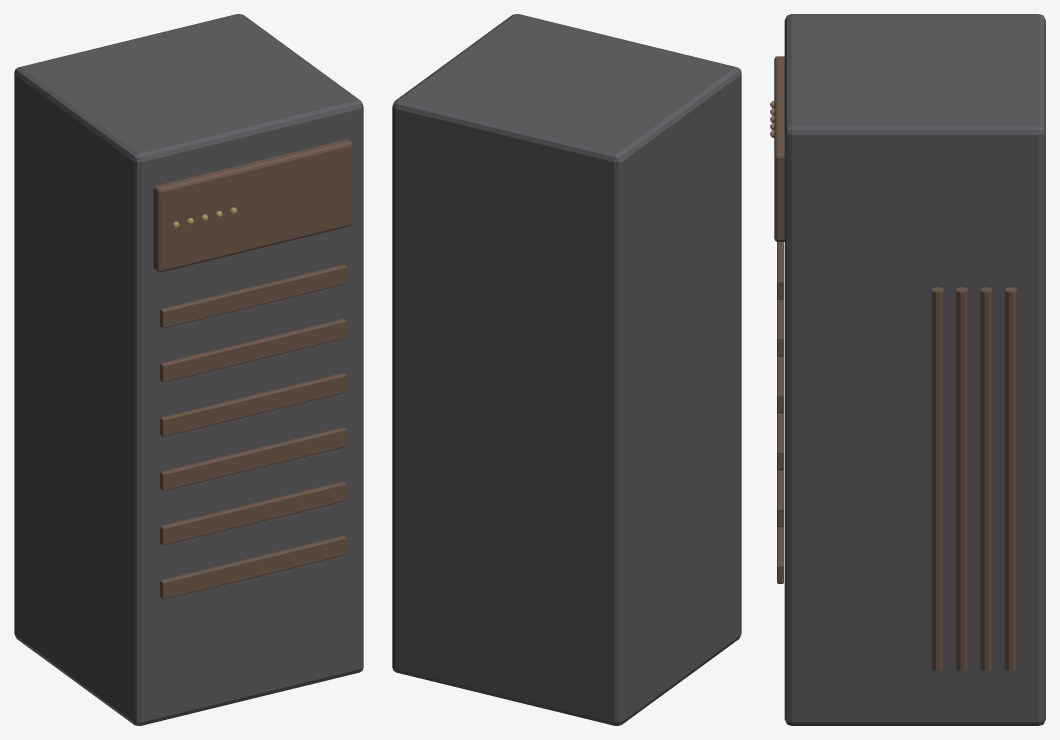
The picture shows the model from 3 angles, left to right: view 1: azimuth 30°, elevation 25°; view 2: azimuth 150°, elevation 25°; view 3: azimuth 270°, elevation 25°; orthographic projection. The views are drawn at different scales.
Parts seen in each view (by area): view 1: machineBox; view 2: machineBox; view 3: machineBox.
Part boxes in pixels (x1,y1,x2,y2): machineBox: (14, 14, 363, 725); machineBox: (392, 14, 741, 725); machineBox: (770, 14, 1045, 725).
Bounding box in the file's own units: 0.8371 × 1.9 × 0.792.
